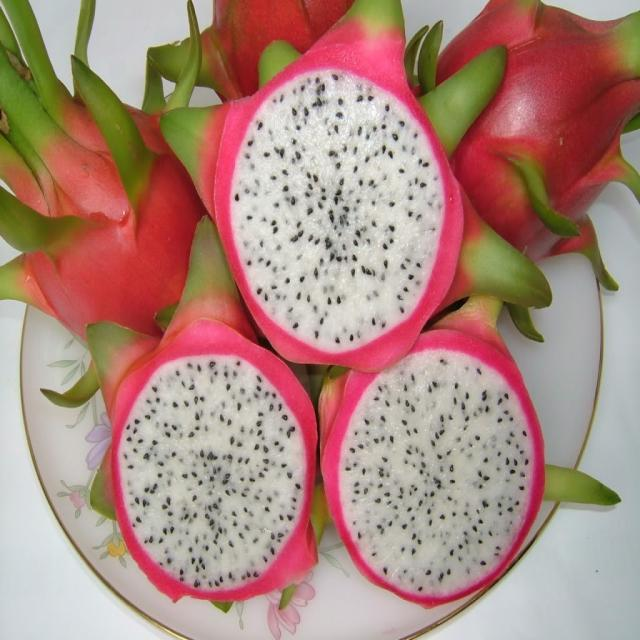thanh long: (204, 14, 464, 371), (322, 329, 544, 605), (118, 356, 304, 588)
